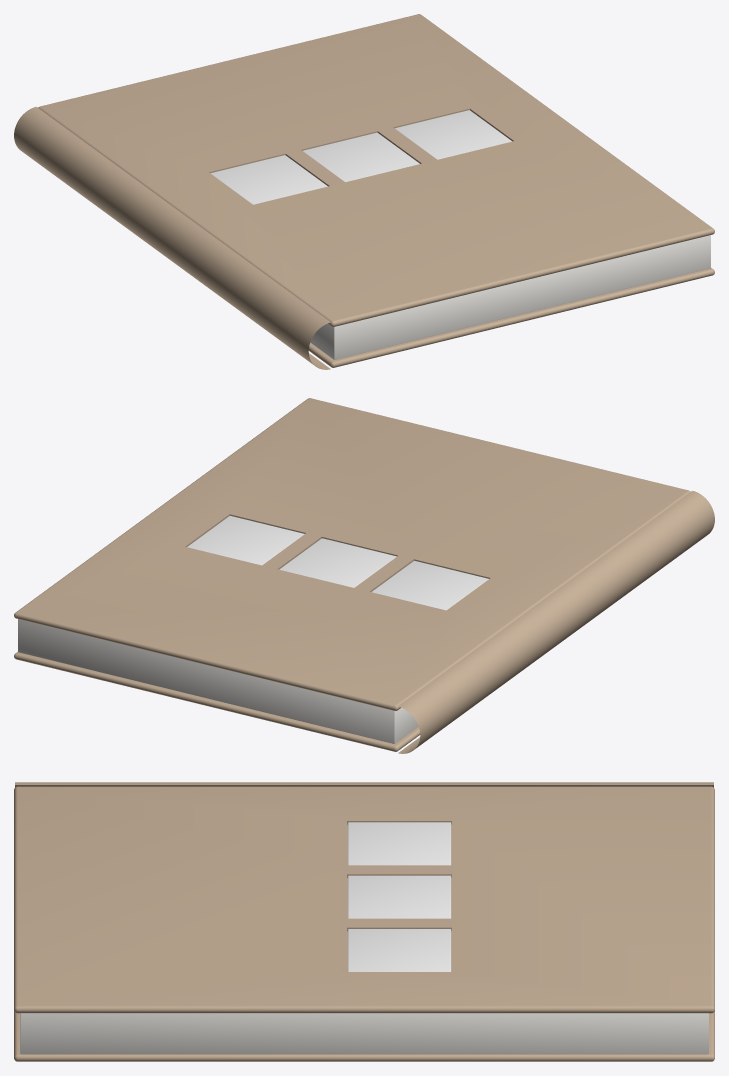
File: trilogy--portrait.glb
The picture shows the model from 3 angles, top to bottom: view 1: azimuth 30°, elevation 25°; view 2: azimuth 150°, elevation 25°; view 3: azimuth 270°, elevation 25°; orthographic projection. The views are drawn at different scales.
Parts seen in each view (by area): view 1: CoverFront, Spine, Pages, CoverBack, Photo1, Photo3, Photo2; view 2: CoverFront, Spine, Pages, CoverBack, Photo1, Photo3, Photo2; view 3: CoverFront, Pages, CoverBack, Photo2, Photo1, Photo3, Spine.
Boxes of the visible parts, x1,y1,x2,y2 form: CoverFront: (38, 14, 714, 326); Spine: (14, 106, 330, 369); Pages: (310, 235, 710, 359); CoverBack: (308, 268, 714, 367); Photo1: (210, 155, 327, 204); Photo3: (395, 110, 512, 159); Photo2: (303, 132, 419, 182); CoverFront: (14, 398, 690, 710); Spine: (398, 490, 714, 753); Pages: (18, 619, 418, 743); CoverBack: (14, 652, 420, 751); Photo1: (371, 560, 488, 610); Photo3: (187, 515, 304, 565); Photo2: (279, 538, 396, 587); CoverFront: (14, 786, 714, 1013); Pages: (20, 1013, 708, 1054); CoverBack: (14, 1011, 714, 1061); Photo2: (348, 875, 451, 918); Photo1: (348, 822, 451, 865); Photo3: (348, 929, 451, 971); Spine: (15, 782, 713, 787).
Bounding box in the file's own units: 0.3179 × 0.0352 × 0.4.
